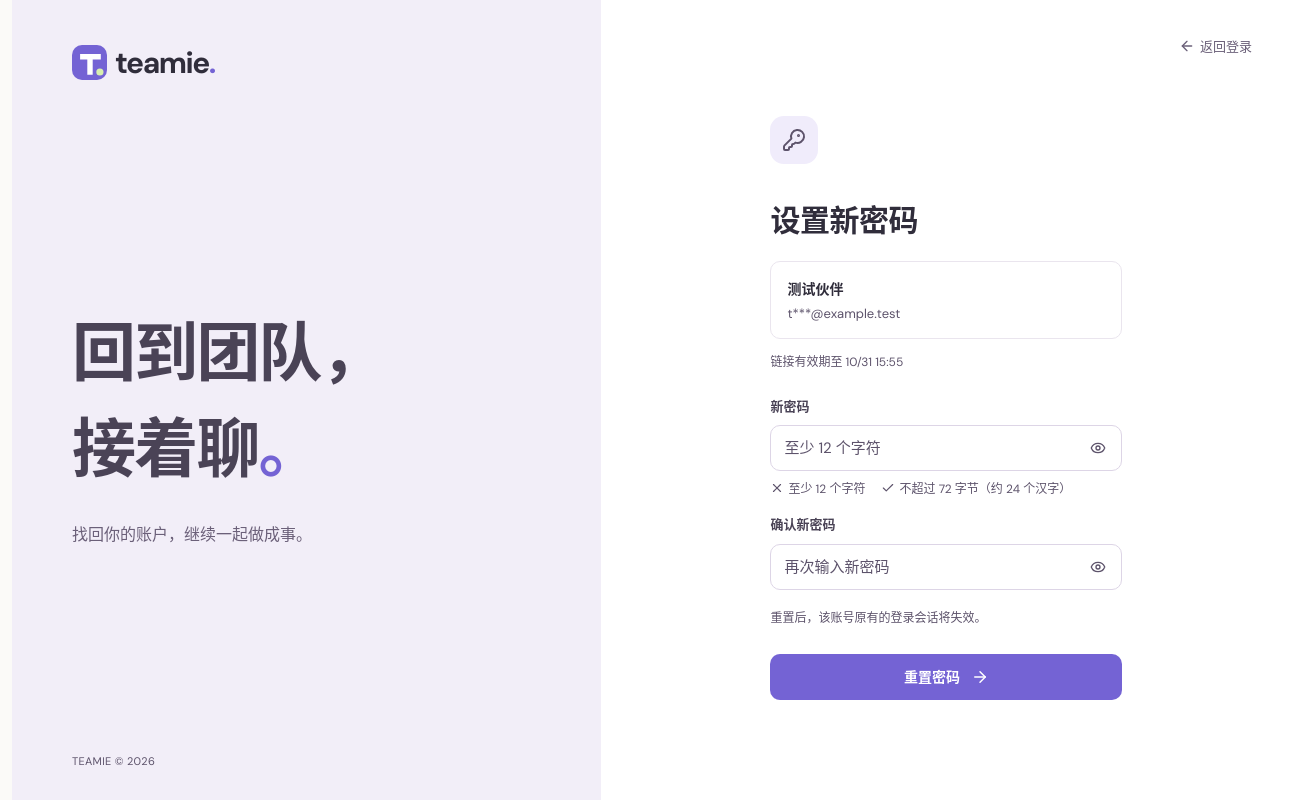
Test: public password recovery › clears the matching revoked local session and sensitive form after success, without logging in
Type "example-new-password" into the password field labelled "新密码" at [946, 448], box [770,425,1122,471]
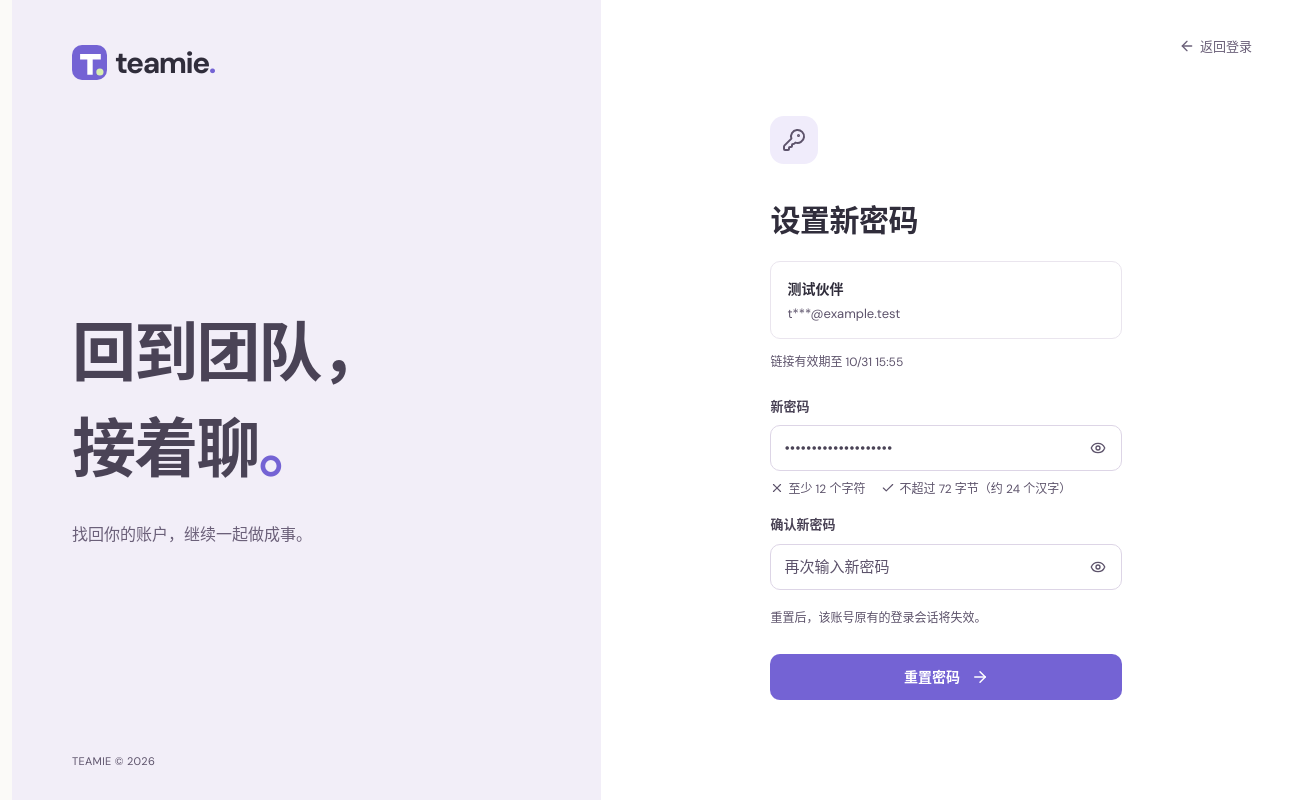
Type "example-new-password" into the password field labelled "确认新密码" at [946, 567], box [770,544,1122,590]
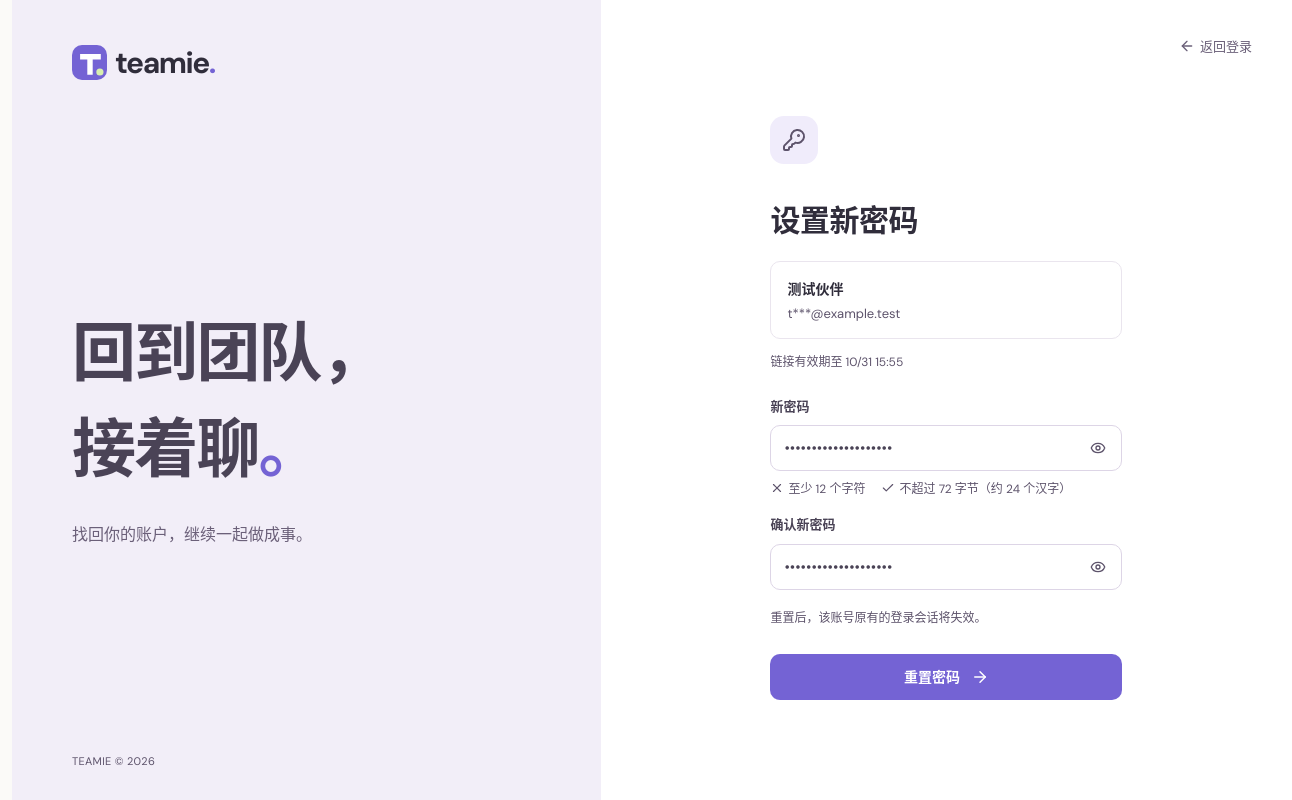
Submit the form, box [770,397,1122,700]
(page scrolled)
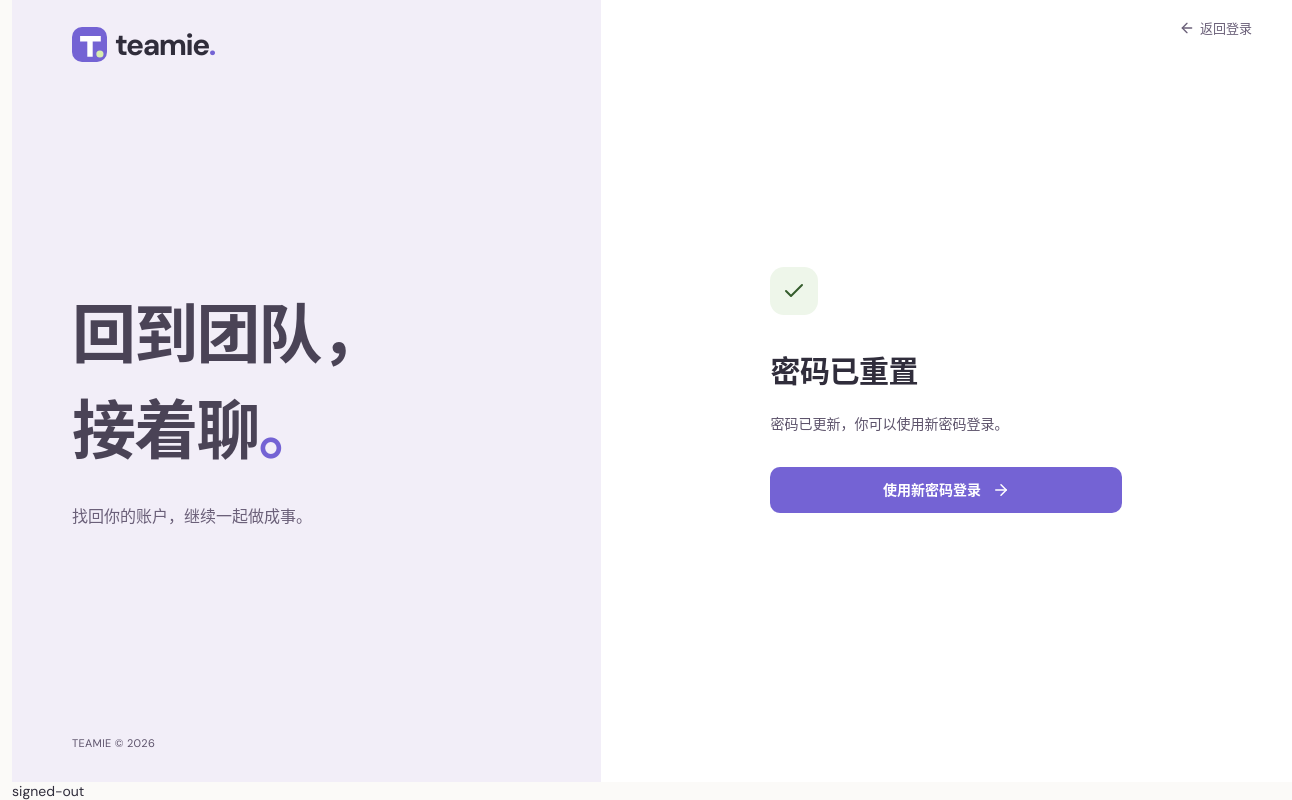
Result: the text "signed-out" is shown at [12,782,84,799]
Result: the text "密码已重置" is shown at [770,352,918,390]
